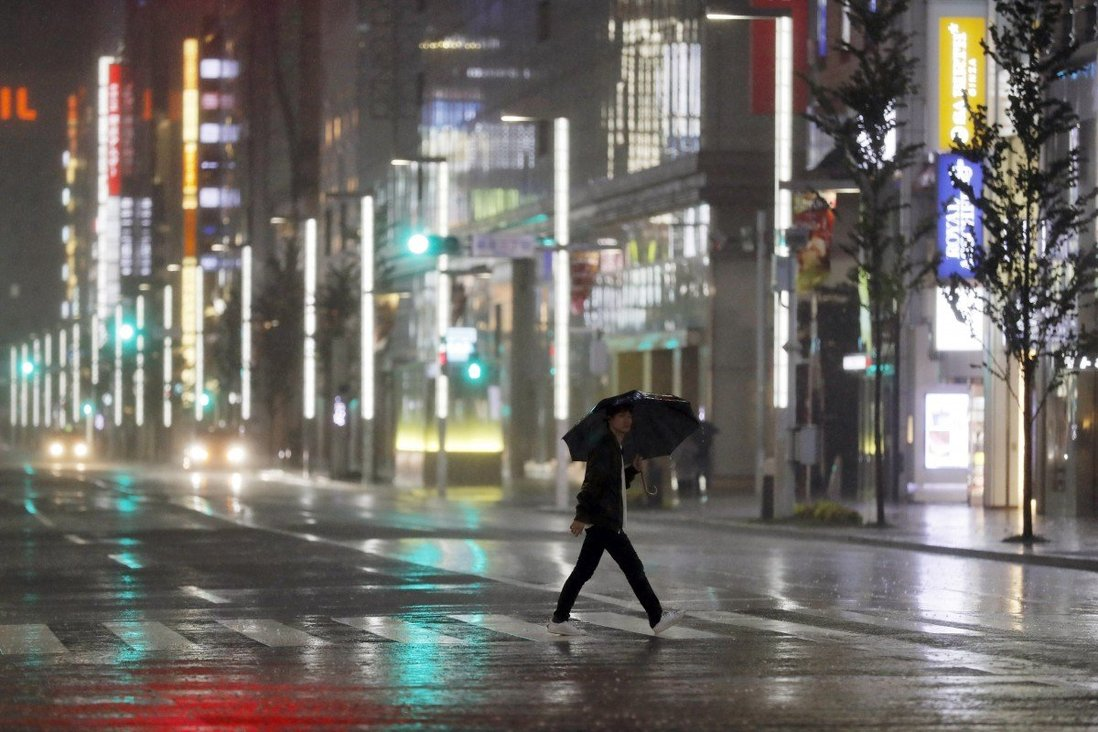person: (545, 409, 684, 636)
